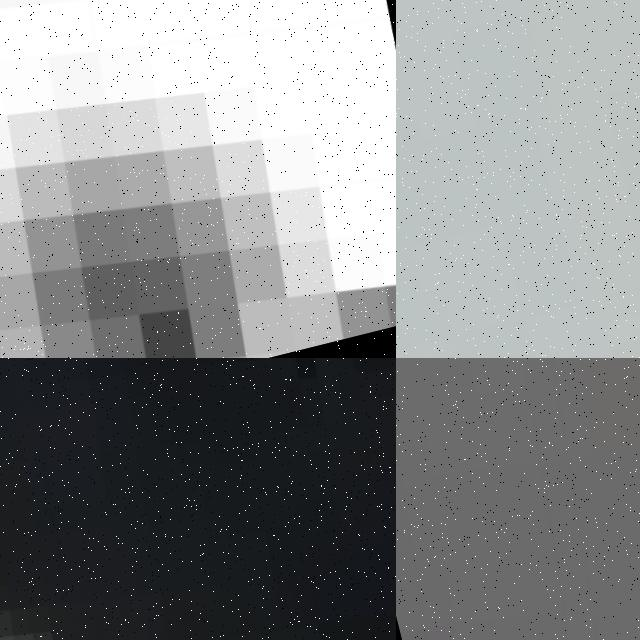drone: (0, 0, 396, 358), (0, 358, 396, 640), (396, 358, 640, 640)
